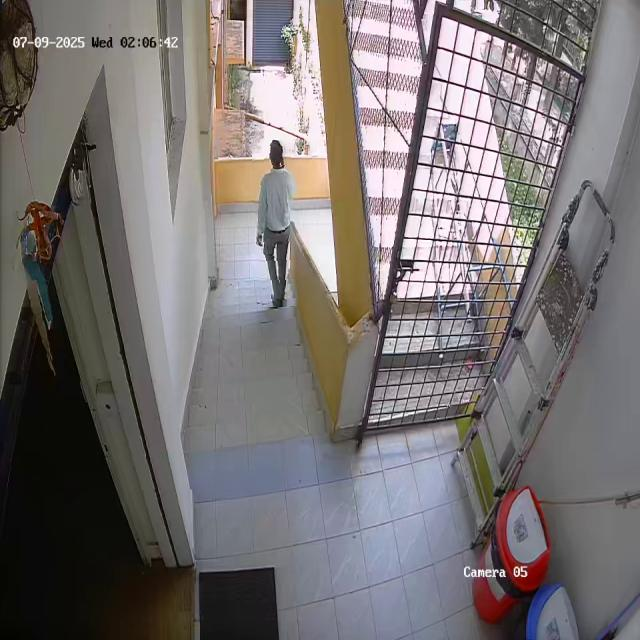person: (253, 138, 296, 307)
